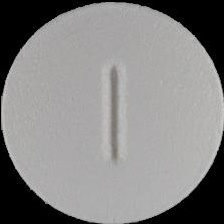55111-249: (0, 0, 224, 224)
